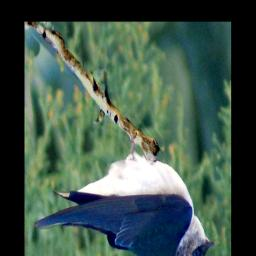Swallow: (34, 127, 218, 256)
